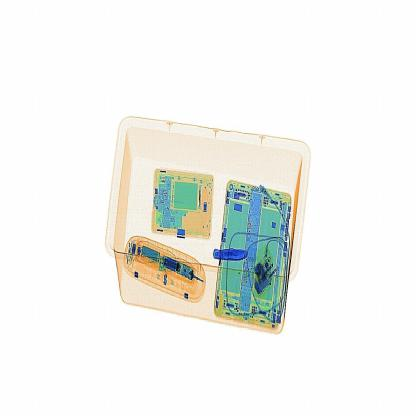knife: (212, 247, 256, 268)
